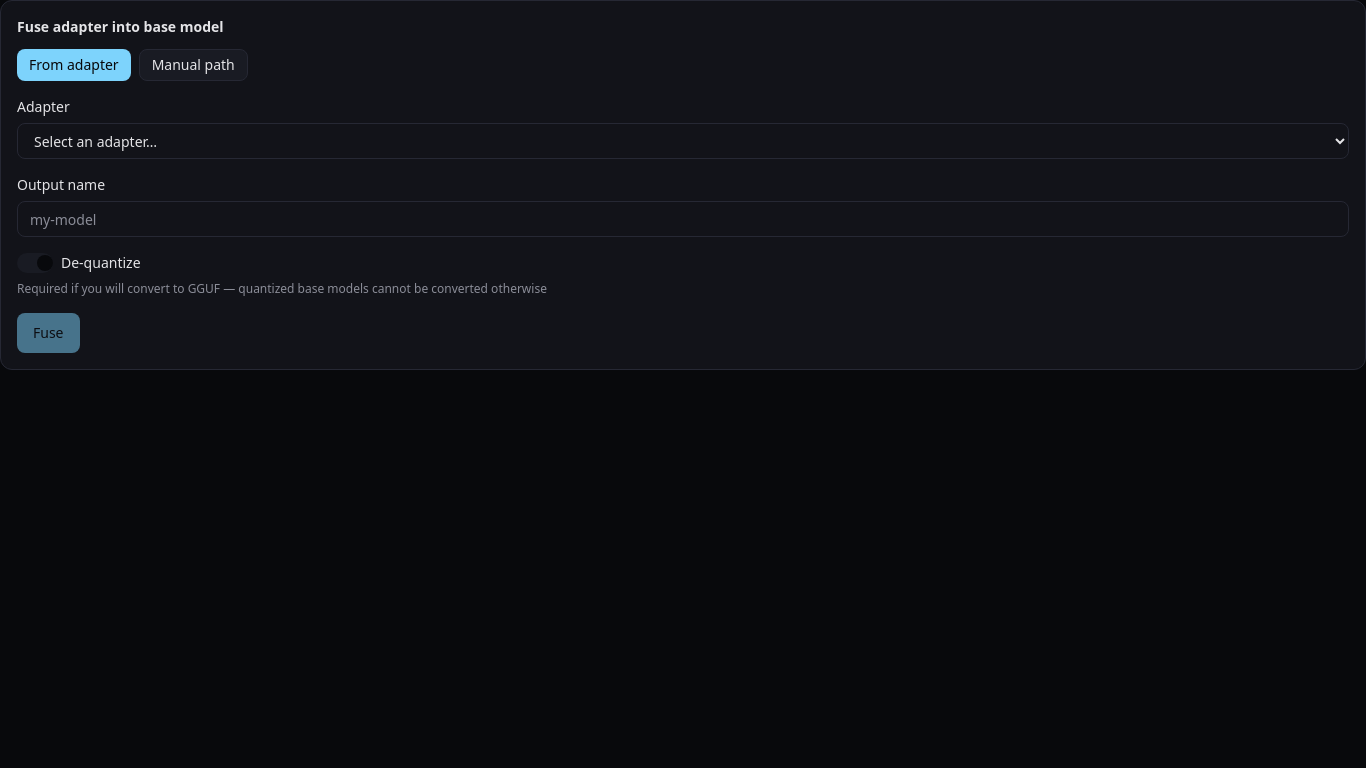
Test: FuseWizard › polls the job and renders the progress log until it completes
The width and height of the screenshot is (1366, 768).
Select "my-run — mlx-community/SmolLM-135M-Instruct-4bit" in the dropdown at (683, 141), box [17,123,1349,159]
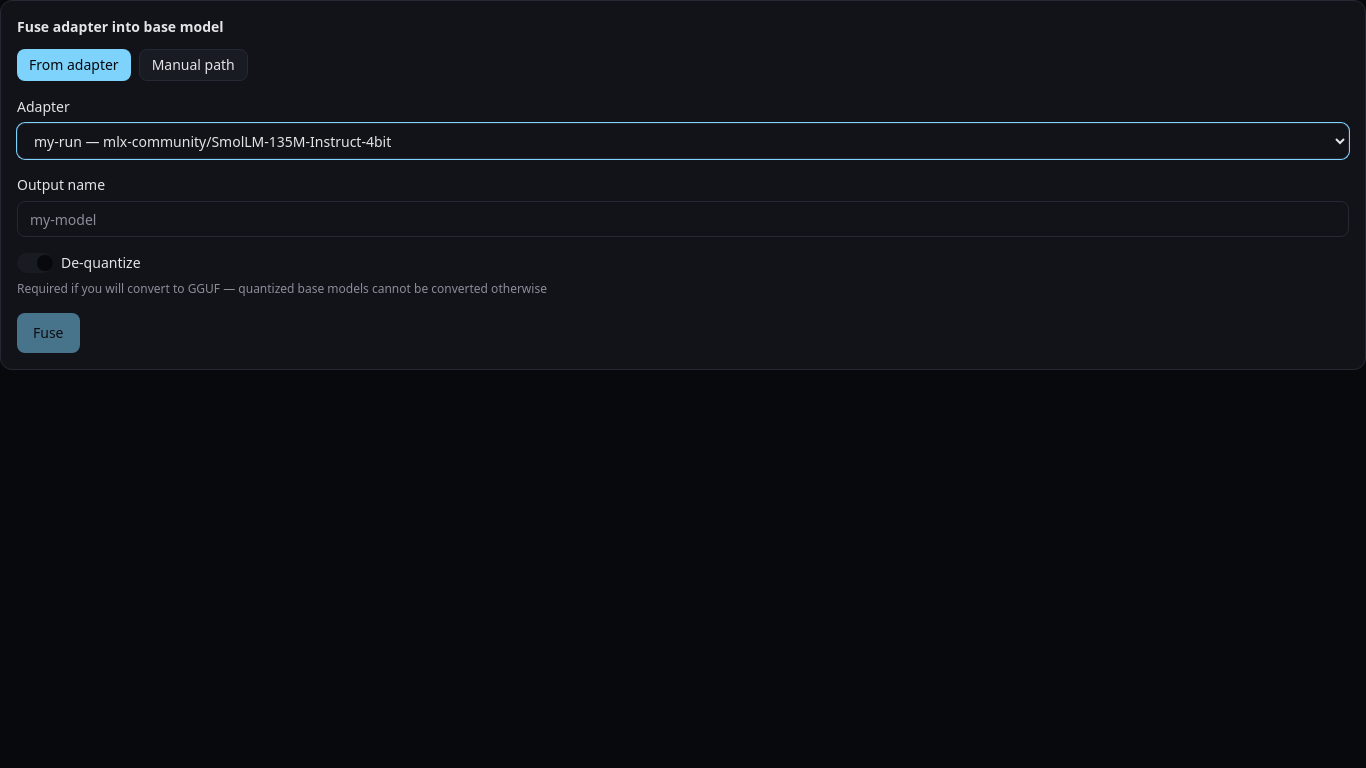
Type "fused-out" into the field with placeholder "my-model".
click(683, 219); type("fused-out")  # box [17,201,1349,237]
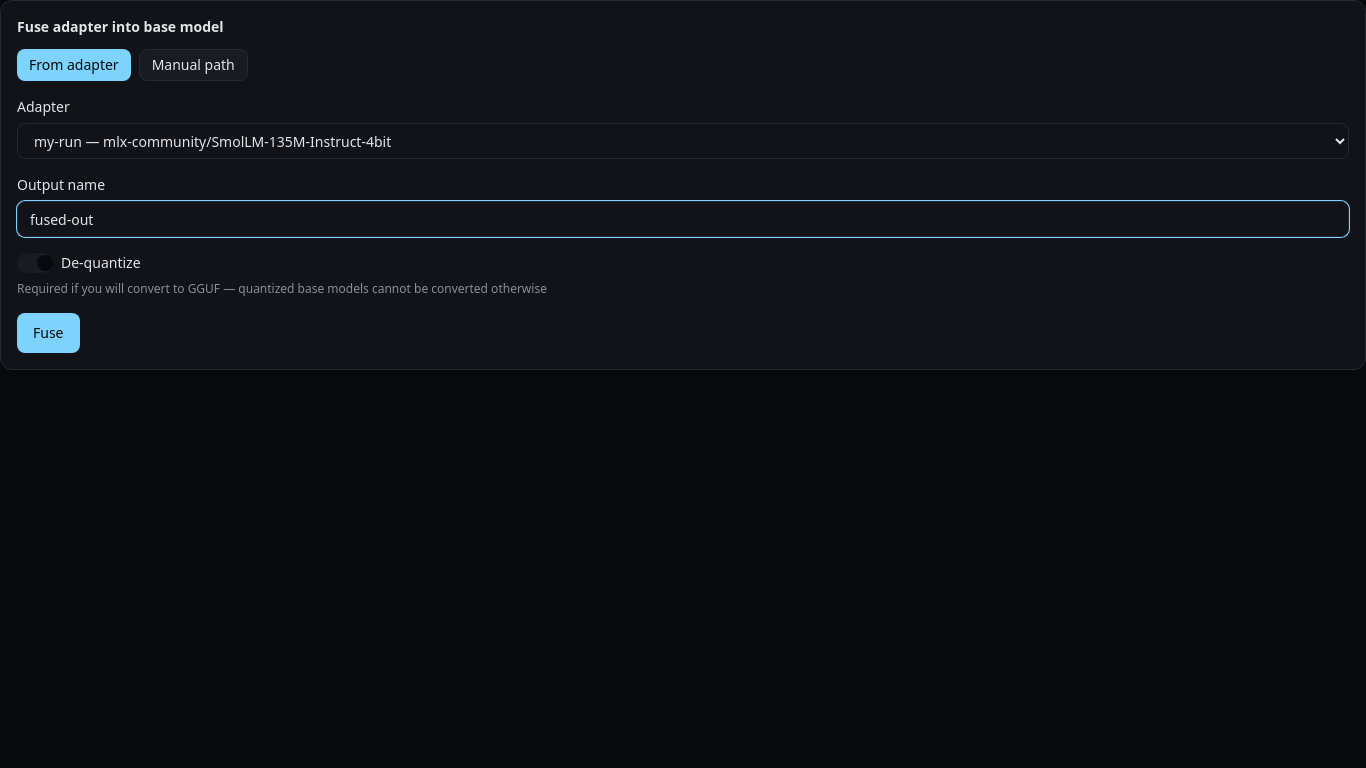
Click the button "Fuse".
click(48, 333)  # box [17,313,80,353]
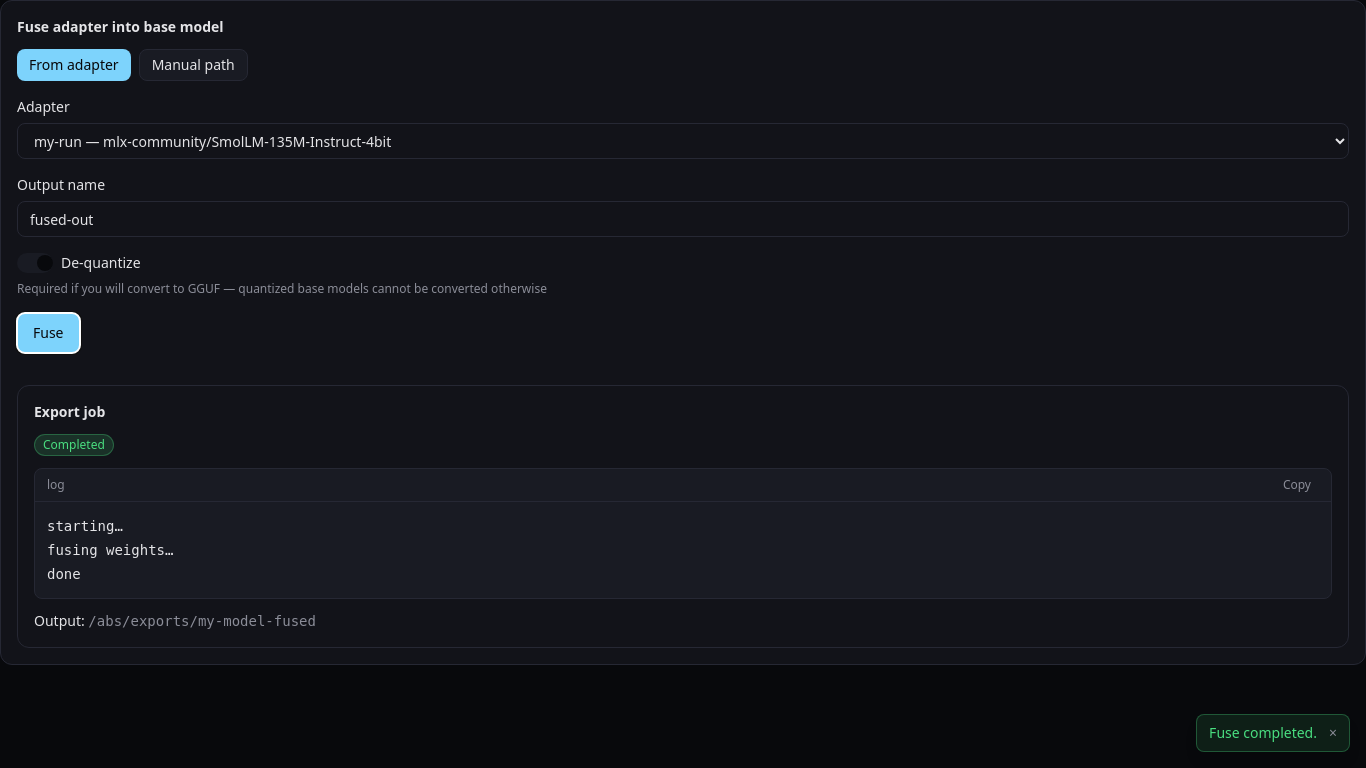
Expected: the text "Completed" is shown, [34,434,114,456]
Expected: the text "starting… fusing weights… done" is shown, [47,518,173,582]
Expected: the text "/abs/exports/my-model-fused" is shown, [88,613,316,629]
